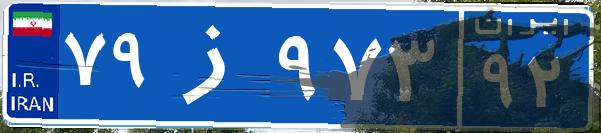2: (525, 38, 570, 115)
3: (385, 28, 445, 110)
7: (330, 28, 385, 110), (57, 26, 110, 107)
9: (273, 28, 330, 110), (475, 38, 525, 113), (110, 28, 158, 105)
ز: (158, 15, 273, 115)
